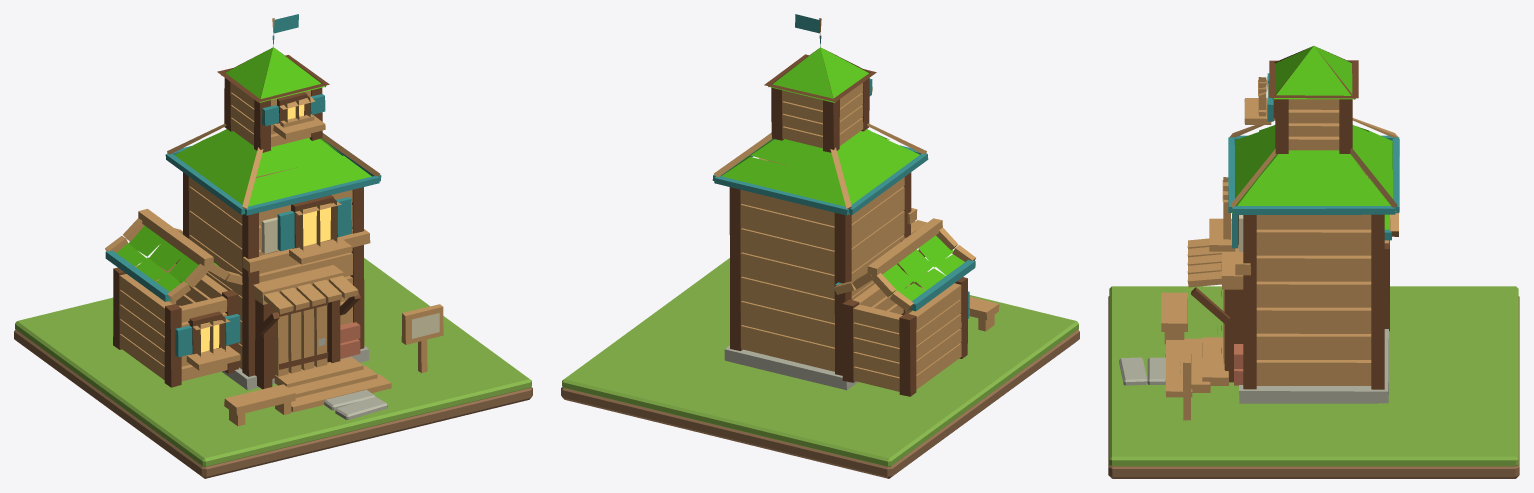
The model's file is town_hall_l04_active_LOD2.glb.
The picture shows the model from 3 angles, left to right: view 1: azimuth 30°, elevation 25°; view 2: azimuth 150°, elevation 25°; view 3: azimuth 270°, elevation 25°; orthographic projection. The views are drawn at different scales.
Parts seen in each view (by area): view 1: town_hall_l04_active_foundation.001, town_hall_l04_active_grass_tile.001, town_hall_l04_active_earth_tile.001, town_hall_l04_active_path_stone.005; view 2: town_hall_l04_active_foundation.001, town_hall_l04_active_grass_tile.001, town_hall_l04_active_earth_tile.001; view 3: town_hall_l04_active_foundation.001, town_hall_l04_active_grass_tile.001, town_hall_l04_active_earth_tile.001, town_hall_l04_active_path_stone.005, town_hall_l04_active_path_stone.004.
Boxes of the visible parts, <box> form: town_hall_l04_active_foundation.001: <box>105,14,443,426</box>; town_hall_l04_active_grass_tile.001: <box>15,258,531,466</box>; town_hall_l04_active_earth_tile.001: <box>14,329,532,478</box>; town_hall_l04_active_path_stone.005: <box>335,396,387,419</box>; town_hall_l04_active_foundation.001: <box>712,14,999,396</box>; town_hall_l04_active_grass_tile.001: <box>562,258,1078,466</box>; town_hall_l04_active_earth_tile.001: <box>561,329,1079,478</box>; town_hall_l04_active_foundation.001: <box>1161,46,1399,420</box>; town_hall_l04_active_grass_tile.001: <box>1109,286,1518,466</box>; town_hall_l04_active_earth_tile.001: <box>1108,296,1519,478</box>; town_hall_l04_active_path_stone.005: <box>1119,357,1147,385</box>; town_hall_l04_active_path_stone.004: <box>1147,357,1165,384</box>.
Size of the model in its own units: 3.6 by 3.66 by 3.6.
